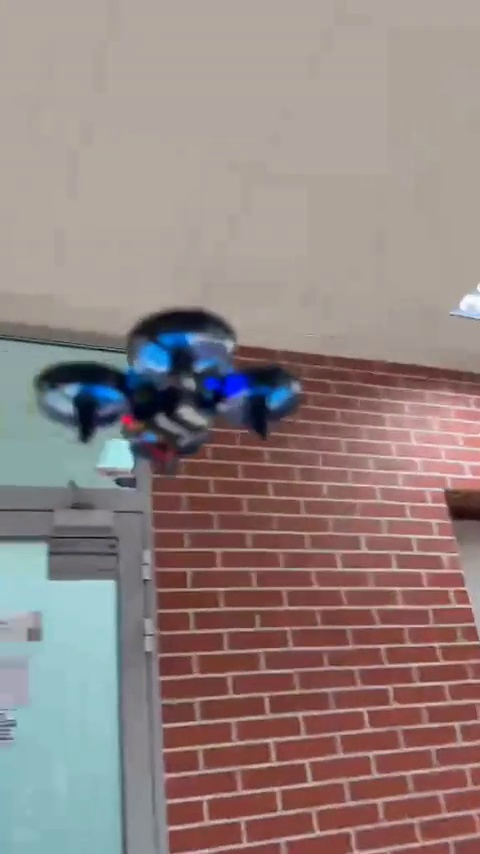drone: (41, 307, 294, 466)
